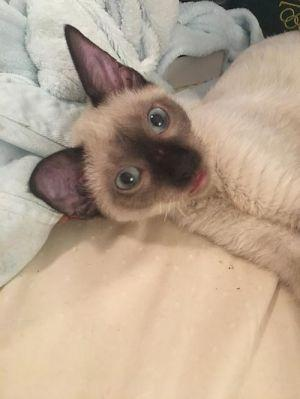siamese: (22, 20, 235, 241)
